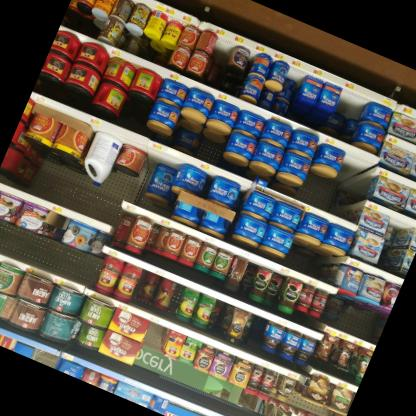empty_space: (325, 148, 377, 220)
